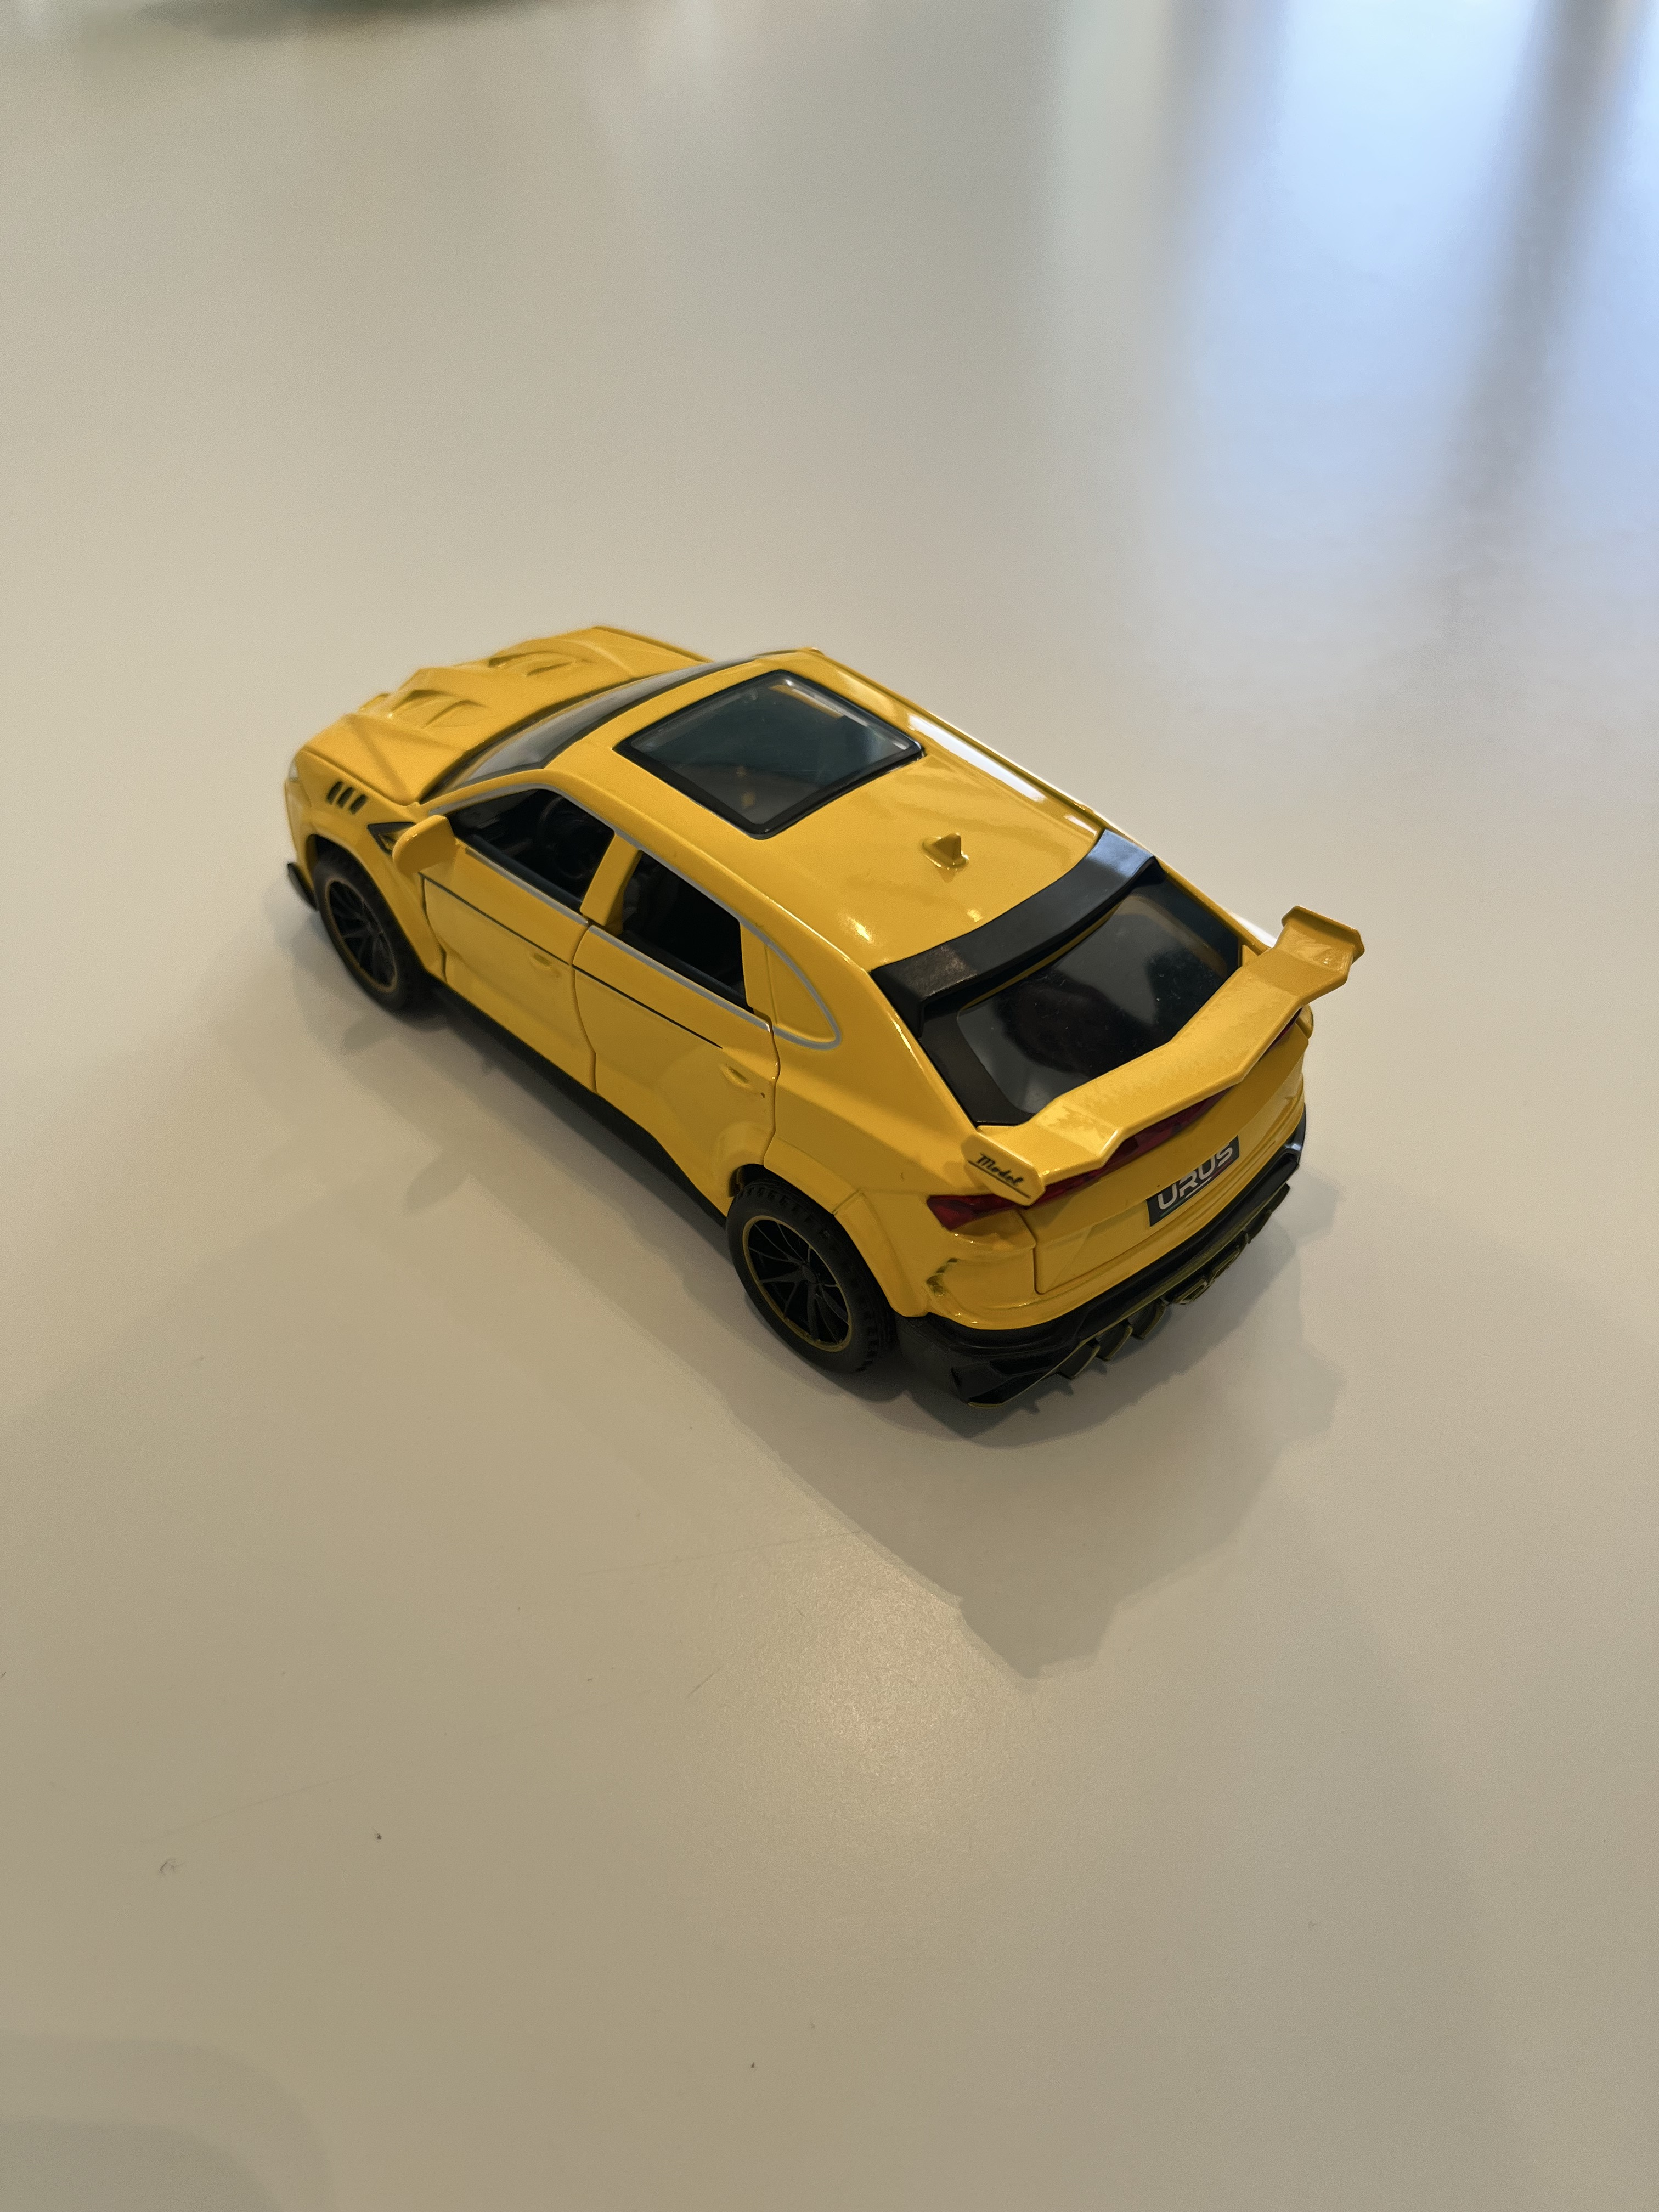lambo: (230, 577, 1377, 1435)
